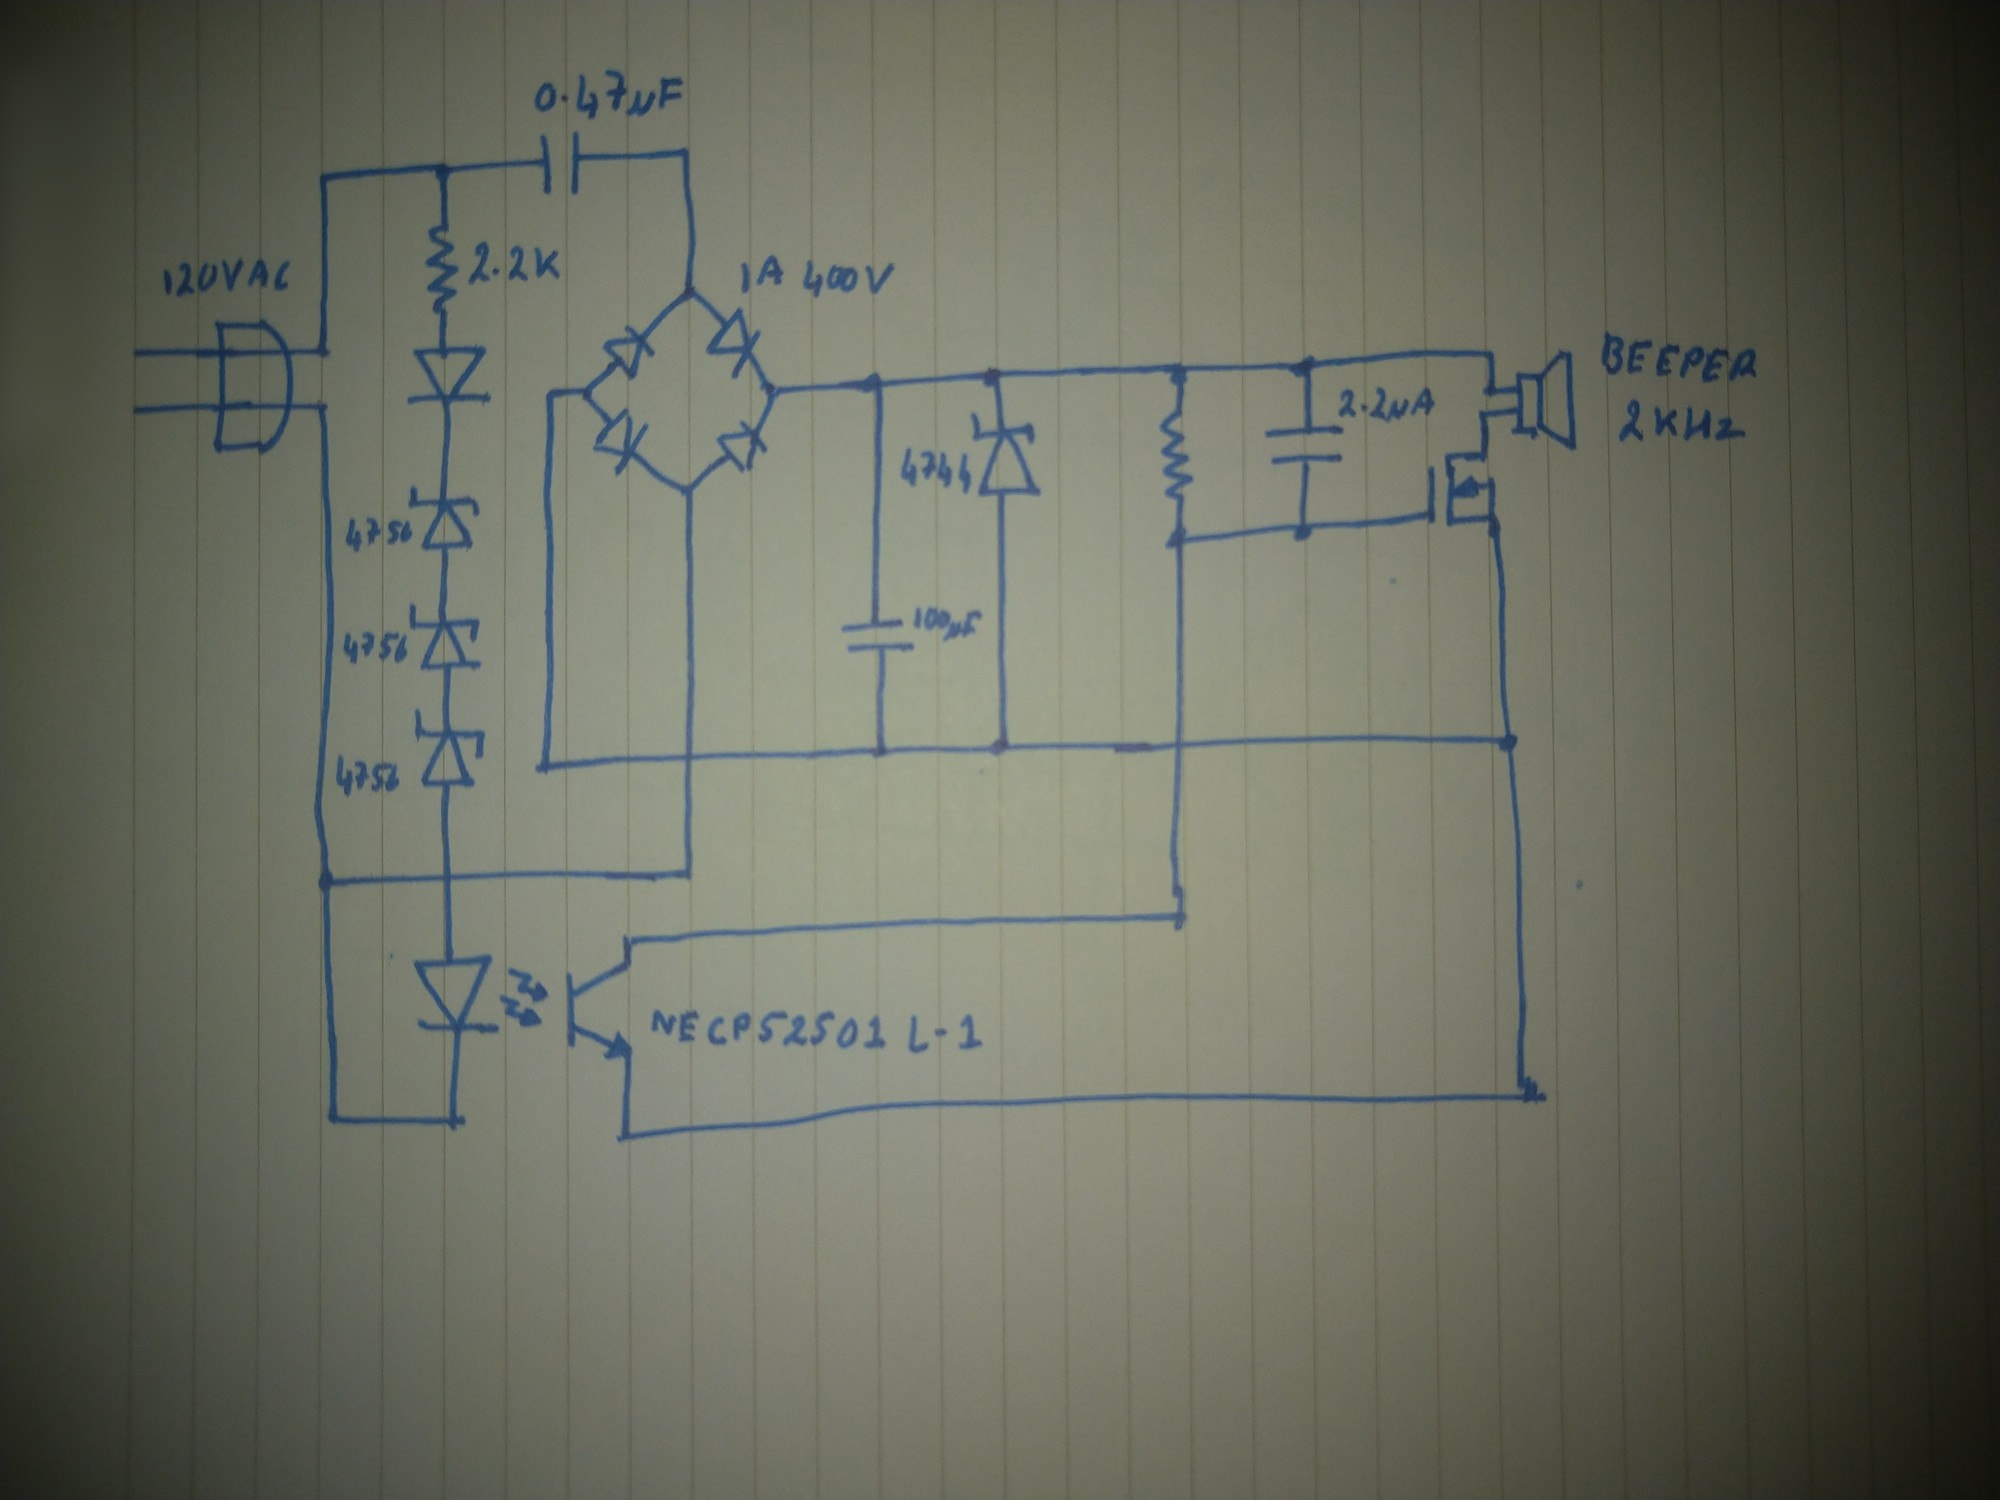capacitor.unpolarized: (524, 128, 598, 200), (1261, 418, 1348, 477), (836, 611, 915, 662)
crossover: (1164, 731, 1198, 759), (433, 863, 468, 890), (679, 747, 704, 767)
diode: (969, 410, 1046, 503), (411, 706, 490, 794), (405, 600, 488, 678), (403, 343, 494, 411), (406, 481, 487, 555), (589, 407, 654, 477), (702, 306, 762, 380), (597, 321, 660, 381), (713, 418, 773, 477)
junction: (1285, 348, 1324, 388), (1506, 1075, 1548, 1109), (1287, 514, 1323, 553), (852, 366, 891, 402), (425, 156, 466, 189), (1157, 522, 1197, 555), (972, 359, 1011, 392), (983, 731, 1024, 763), (1490, 725, 1524, 759), (1164, 355, 1195, 391), (1165, 903, 1200, 934), (757, 373, 789, 407), (312, 865, 345, 897), (672, 474, 702, 503), (674, 277, 704, 306), (441, 1108, 471, 1134), (539, 381, 565, 410), (865, 741, 898, 763), (576, 378, 598, 408), (532, 755, 557, 780), (320, 1106, 345, 1131), (310, 392, 335, 418), (613, 1127, 641, 1149), (677, 862, 702, 886), (313, 165, 335, 192), (310, 340, 337, 362), (674, 139, 696, 162), (1474, 403, 1496, 425), (619, 928, 639, 949), (1479, 345, 1501, 364), (1480, 380, 1502, 399)
optocoupler: (409, 952, 641, 1065)
resistor: (420, 221, 461, 325), (1157, 405, 1198, 506)
socket: (208, 315, 298, 459)
speaker: (1509, 347, 1589, 457)
terminal: (124, 343, 146, 362), (123, 403, 146, 421)
text: (647, 1002, 991, 1064), (531, 65, 687, 124), (1595, 329, 1762, 384), (1613, 395, 1751, 444), (157, 255, 298, 303), (465, 239, 565, 288), (798, 257, 901, 301), (1337, 381, 1438, 425), (898, 443, 973, 495), (332, 752, 405, 797), (342, 511, 414, 555), (907, 603, 983, 644), (342, 626, 409, 670), (732, 252, 789, 296)
transistor: (1420, 443, 1509, 531)
